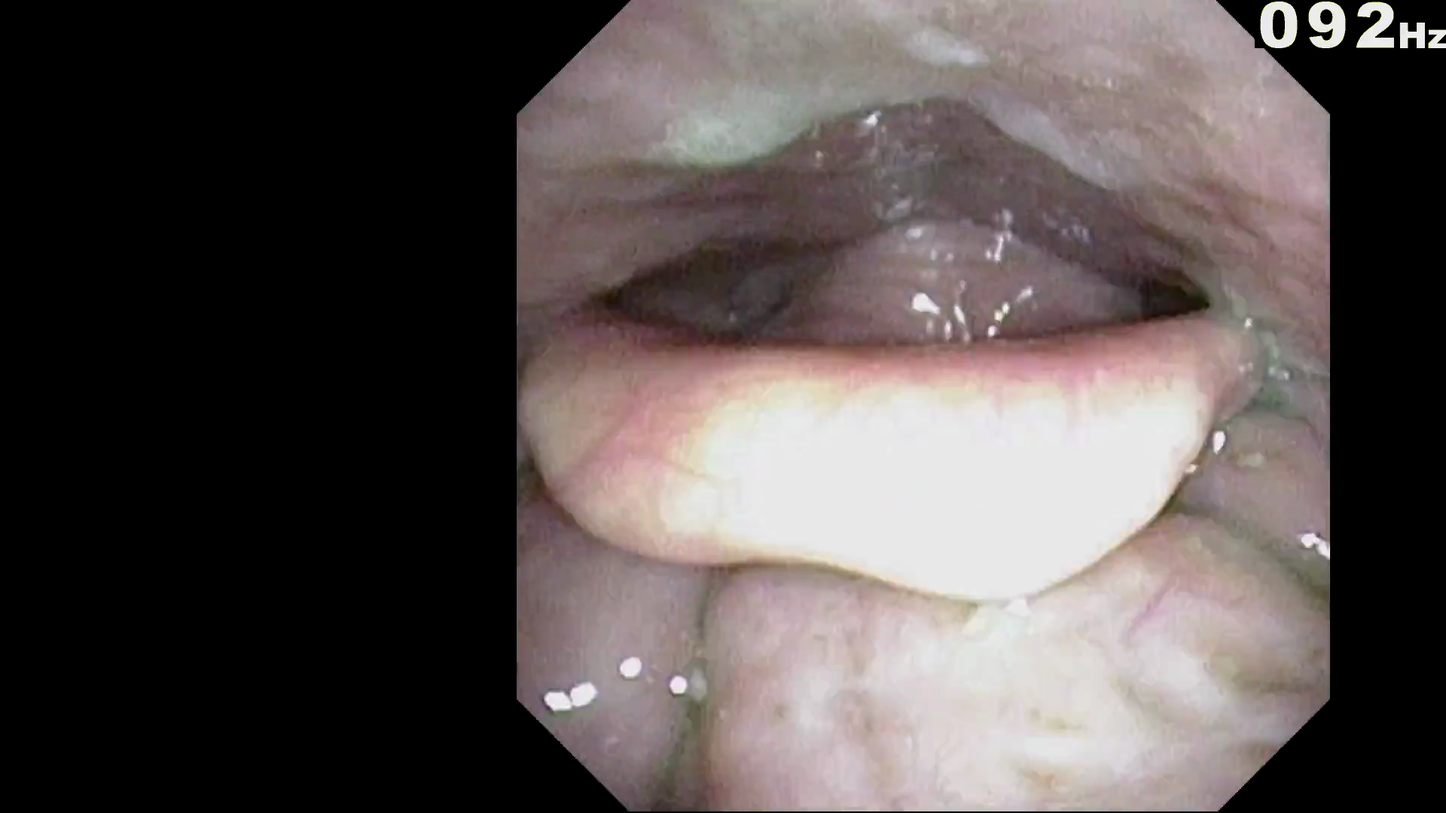epiglottis: (615, 322, 1227, 526)
